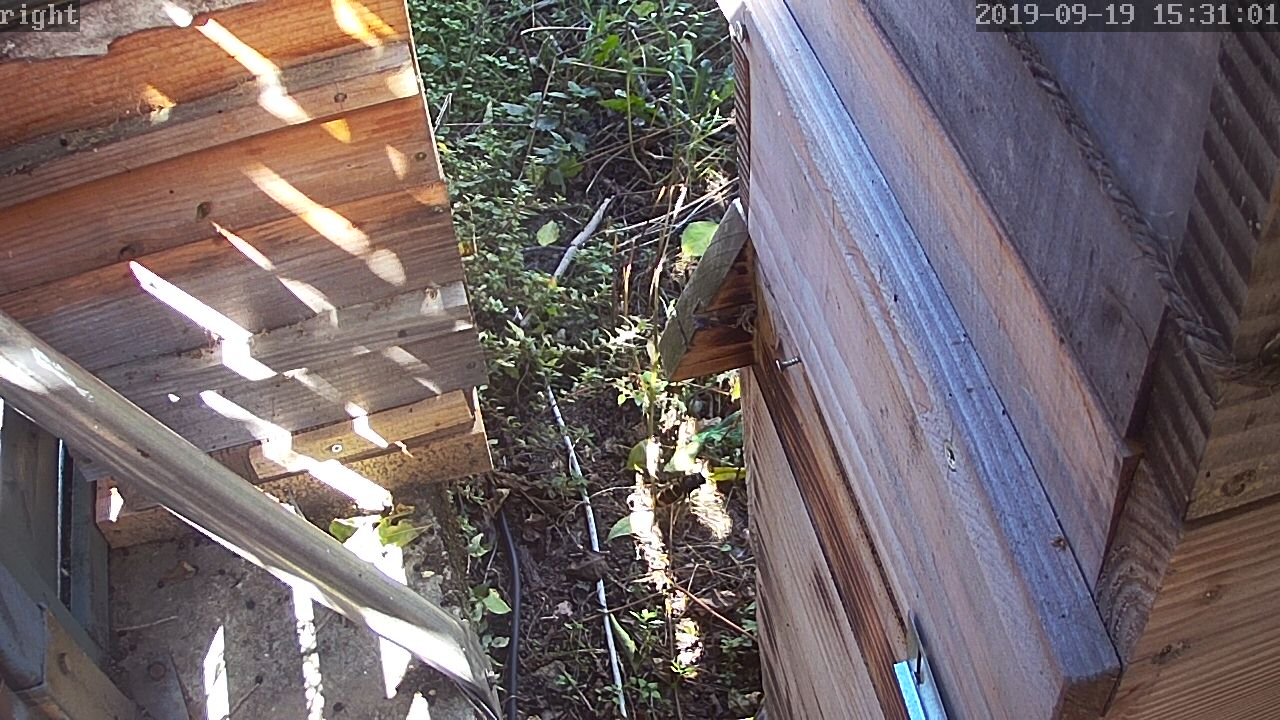hornet: (44, 10, 1256, 720), (112, 236, 185, 274)
